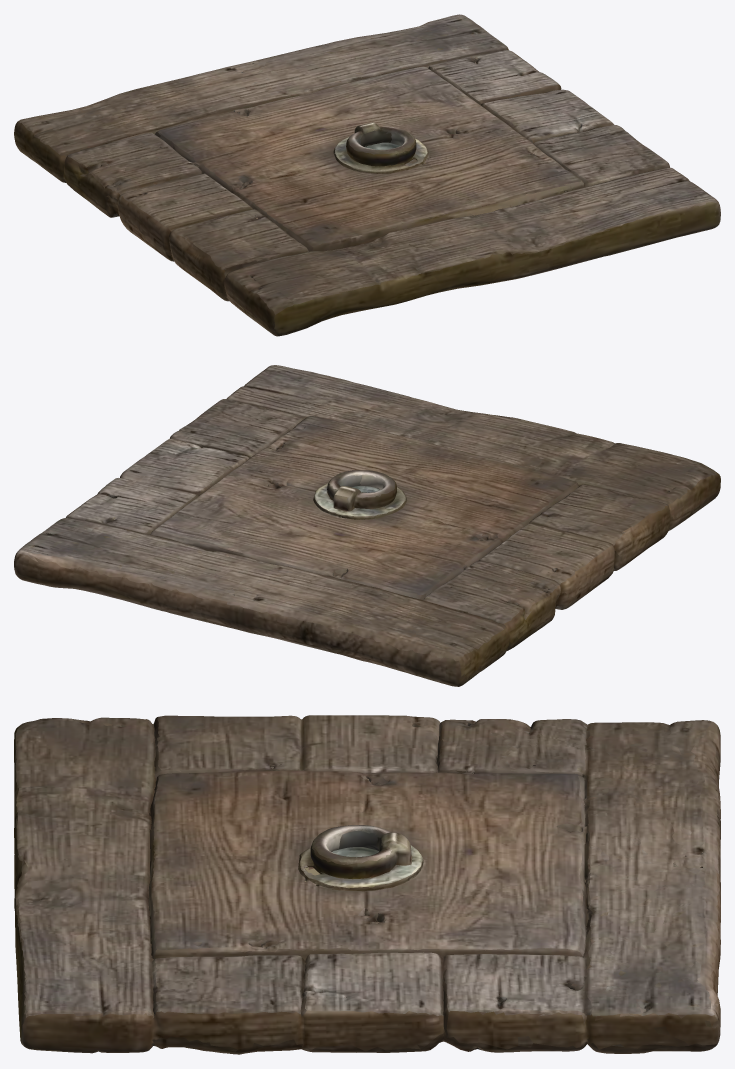
File: obj_study_floor_door.glb
3 renders of one model, top to bottom at view 1: azimuth 30°, elevation 25°; view 2: azimuth 150°, elevation 25°; view 3: azimuth 270°, elevation 25°, orthographic. The views are drawn at different scales.
Parts seen in each view (by area): view 1: geometry_0; view 2: geometry_0; view 3: geometry_0.
Part boxes in pixels (bbox=[...]): geometry_0: bbox=[14, 14, 720, 336]; geometry_0: bbox=[14, 365, 720, 686]; geometry_0: bbox=[14, 715, 720, 1054].
Bounding box in the file's own units: 0.6 × 0.0875 × 0.6037.
1 material, 1 textured.
